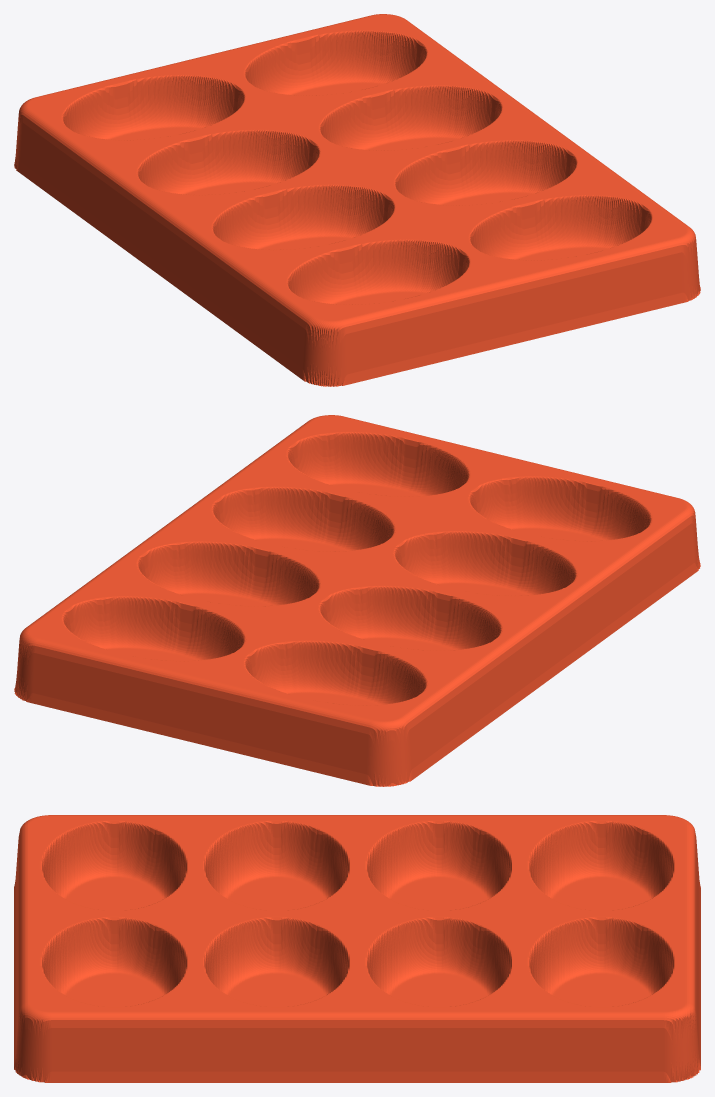
Rendered from mold.glb.
3 renders of one model, top to bottom at view 1: azimuth 30°, elevation 25°; view 2: azimuth 150°, elevation 25°; view 3: azimuth 270°, elevation 25°, orthographic. The views are drawn at different scales.
Visible parts, largest first — view 1: geometry_0; view 2: geometry_0; view 3: geometry_0.
Boxes of the visible parts, x1,y1,x2,y2 form: geometry_0: (14, 14, 700, 386); geometry_0: (14, 415, 700, 786); geometry_0: (14, 815, 700, 1082).
Bounding box in the file's own units: 0.1209 × 0.0175 × 0.1683.
